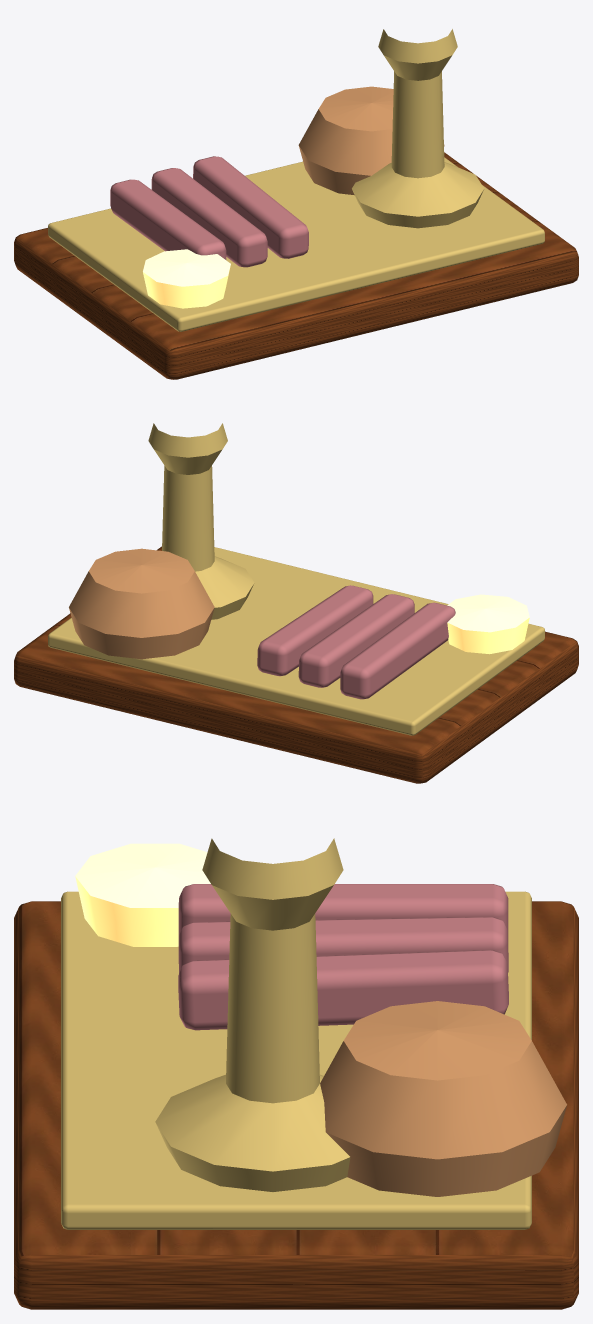
File: witch-cottage-and-apothecary-wax-and-seal-set-5f7dac1e__32483.glb
3 renders of one model, top to bottom at view 1: azimuth 30°, elevation 25°; view 2: azimuth 150°, elevation 25°; view 3: azimuth 270°, elevation 25°, orthographic. The views are drawn at different scales.
Parts seen in each view (by area): view 1: wax-and-seal-set; view 2: wax-and-seal-set; view 3: wax-and-seal-set.
Boxes of the visible parts, x1,y1,x2,y2 form: wax-and-seal-set: [14, 29, 578, 379]; wax-and-seal-set: [14, 423, 578, 783]; wax-and-seal-set: [14, 838, 578, 1309].
Bounding box in the file's own units: 0.36 × 0.187 × 0.24.
Materials: 5 (1 with a texture image).
